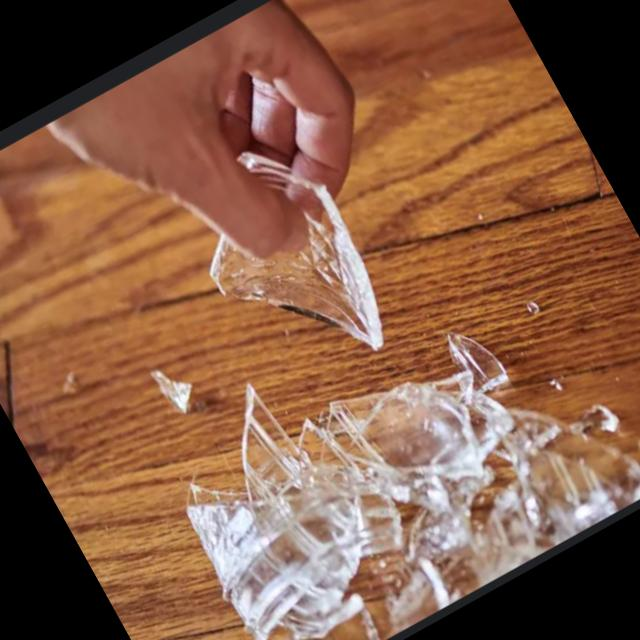PecahanKaca: (136, 181, 640, 640), (132, 62, 418, 404)
